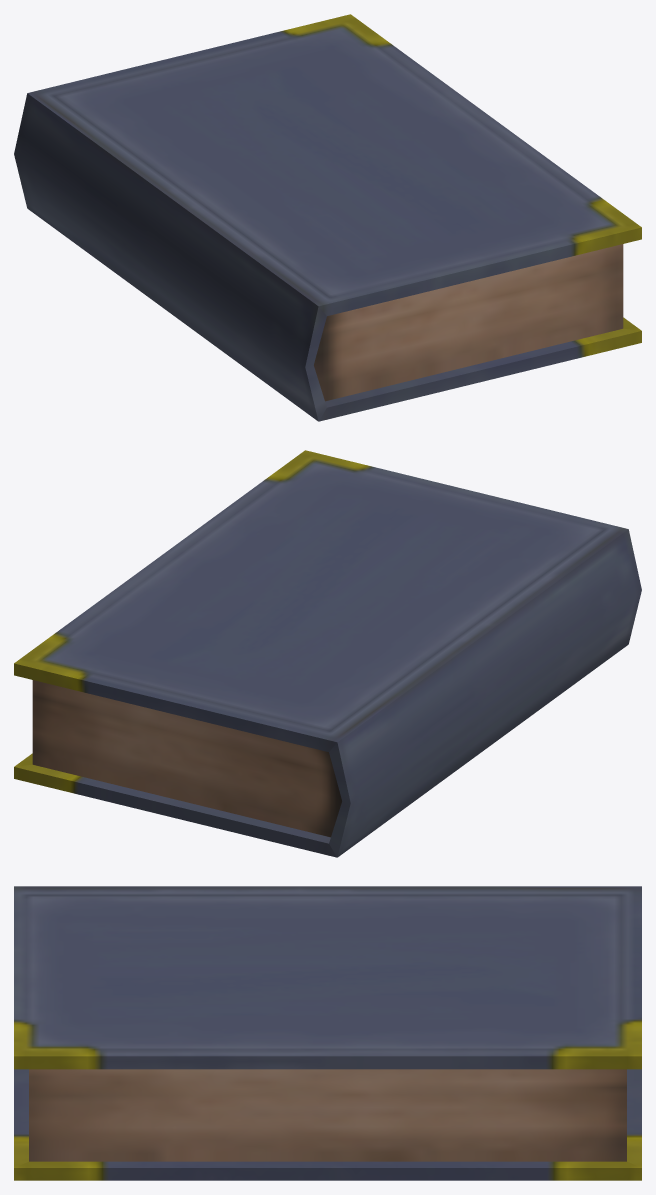
Rendered from book_005.fbx.
3 renders of one model, top to bottom at view 1: azimuth 30°, elevation 25°; view 2: azimuth 150°, elevation 25°; view 3: azimuth 270°, elevation 25°, orthographic. The views are drawn at different scales.
Parts seen in each view (by area): view 1: book; view 2: book; view 3: book.
Boxes of the visible parts, x1,y1,x2,y2 form: book: (14, 14, 641, 421); book: (14, 450, 641, 857); book: (14, 886, 641, 1180).
Size of the model in its own units: 16.57 by 5.43 by 24.83.
